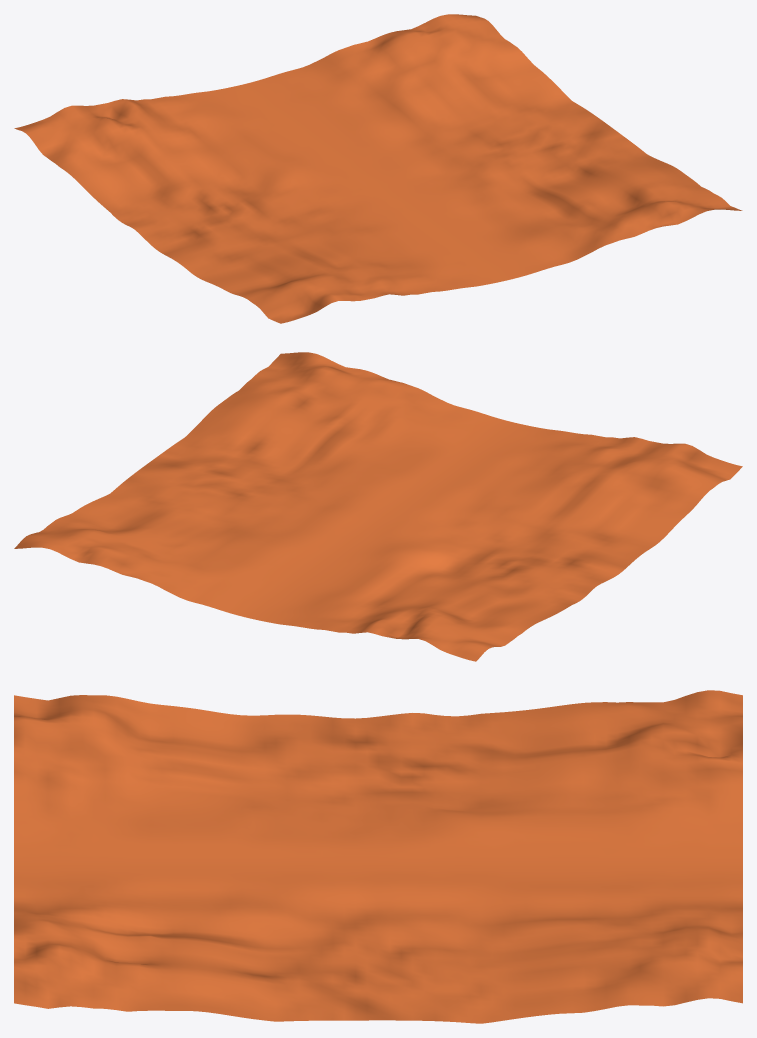
File: GroundTile_2.fbx
3 views of the same model, one above another, from view 1: azimuth 30°, elevation 25°; view 2: azimuth 150°, elevation 25°; view 3: azimuth 270°, elevation 25° (orthographic). The views are drawn at different scales.
Visible parts, largest first — view 1: GroundTile_2; view 2: GroundTile_2; view 3: GroundTile_2.
Boxes of the visible parts, left/top/right/bottom form: GroundTile_2: left=14, top=14, right=742, bottom=323; GroundTile_2: left=14, top=352, right=742, bottom=661; GroundTile_2: left=14, top=690, right=742, bottom=1023.
Size of the model in its own units: 200 by 11.71 by 200.
